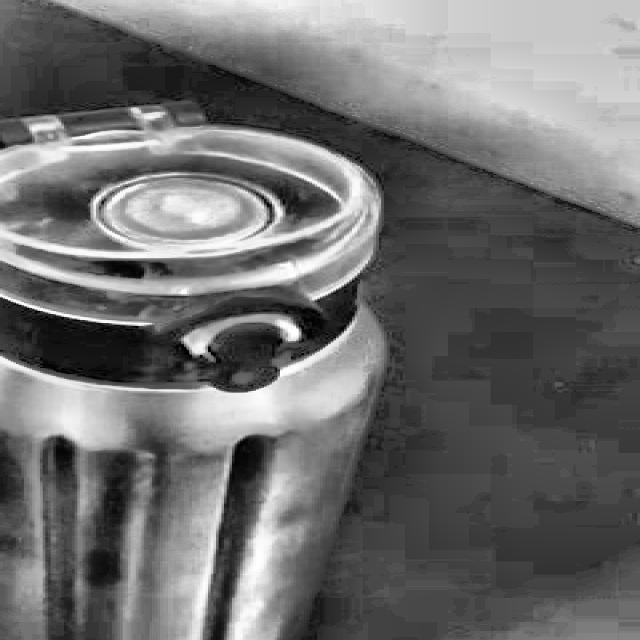bottle: (0, 116, 389, 640)
